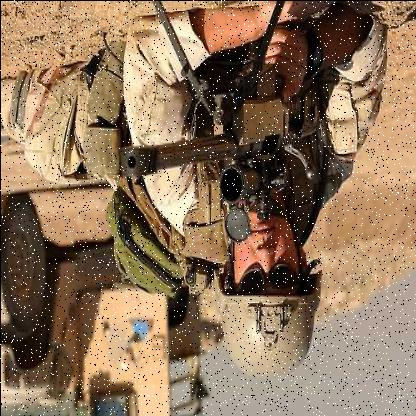rifle: (108, 46, 330, 215)
